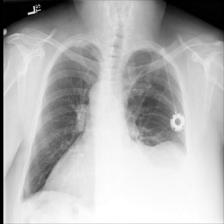normal: (16, 34, 195, 207)
